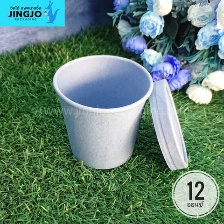paper_cup: (48, 51, 156, 172)
